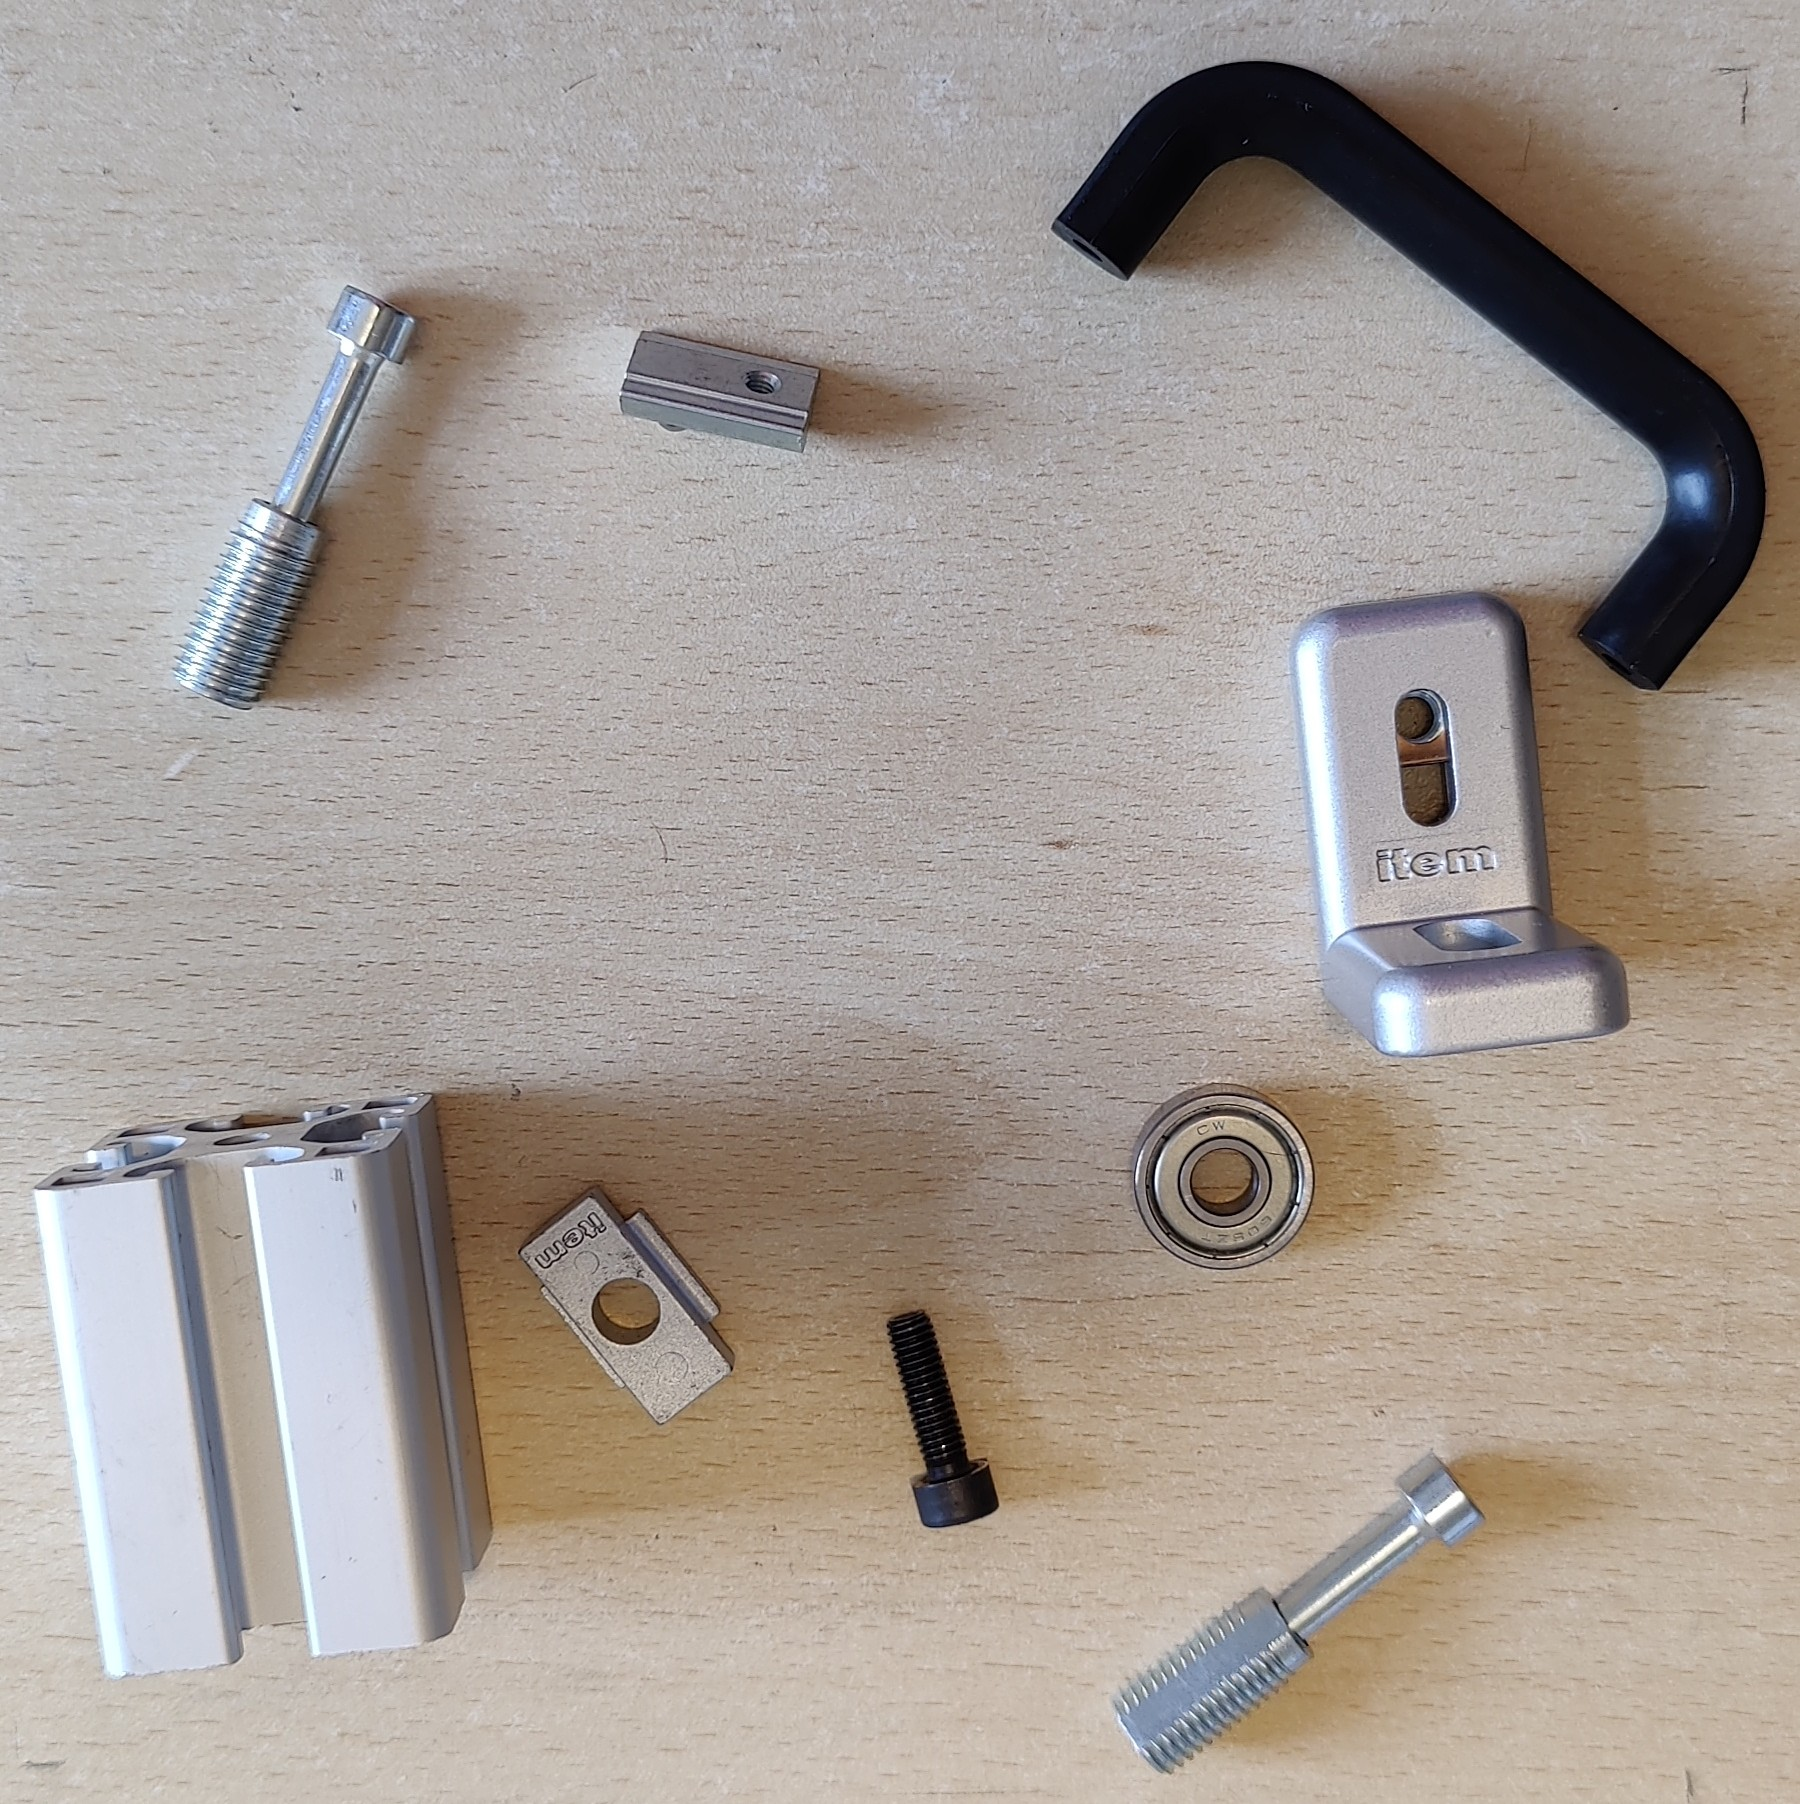Aluminium Extension: (30, 1088, 495, 1682)
Ball Bearing: (1126, 1078, 1319, 1273)
Multiwinkel: (1286, 589, 1634, 1059)
Pull Handle: (1048, 56, 1769, 696)
Shoulder Socket Head Cap Screw: (1108, 1448, 1488, 1779), (170, 279, 422, 712)
Socket Head Cap Screw: (880, 1304, 1001, 1530)
T Nut Square: (514, 1179, 738, 1430)
T Spring Nut: (616, 325, 824, 457)
